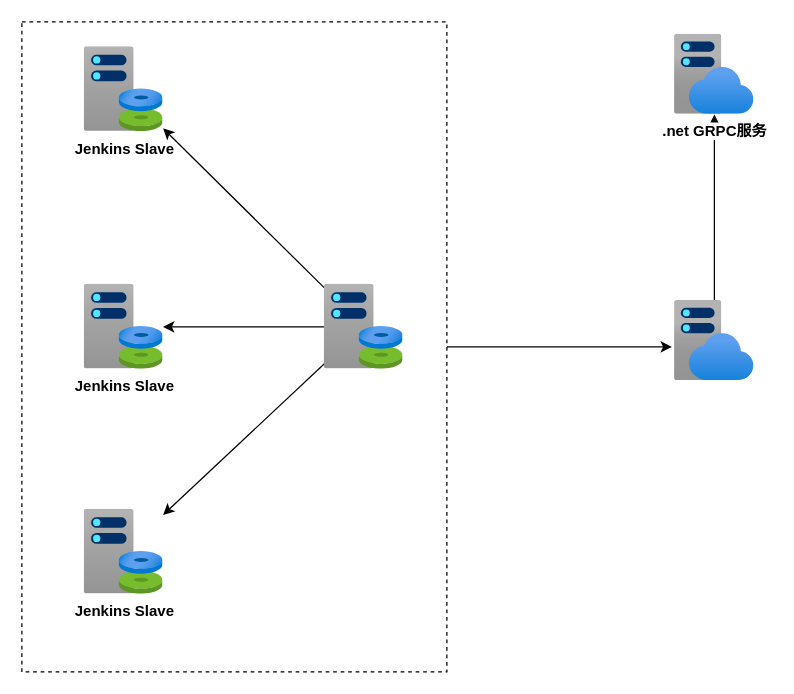
Some shapes in this 794 by 694 pixel diagram are drawn without their labels. The shapes that lost their labels are listed below. From the top down, each one's centre as x and y in pixels, then its label:
At point (363, 326): "Jenkins Master".
At point (714, 340): "Java GRPC服务".
